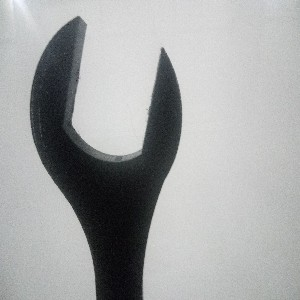spanner: (29, 14, 183, 300)
